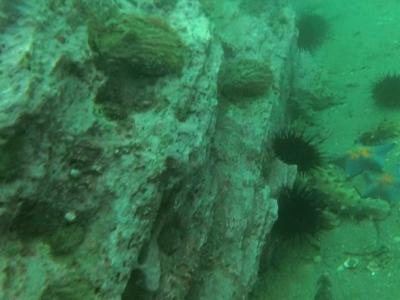holothurian: (315, 162, 393, 223)
urchin: (269, 185, 332, 243), (270, 127, 332, 180), (297, 13, 329, 54), (371, 73, 393, 111)
